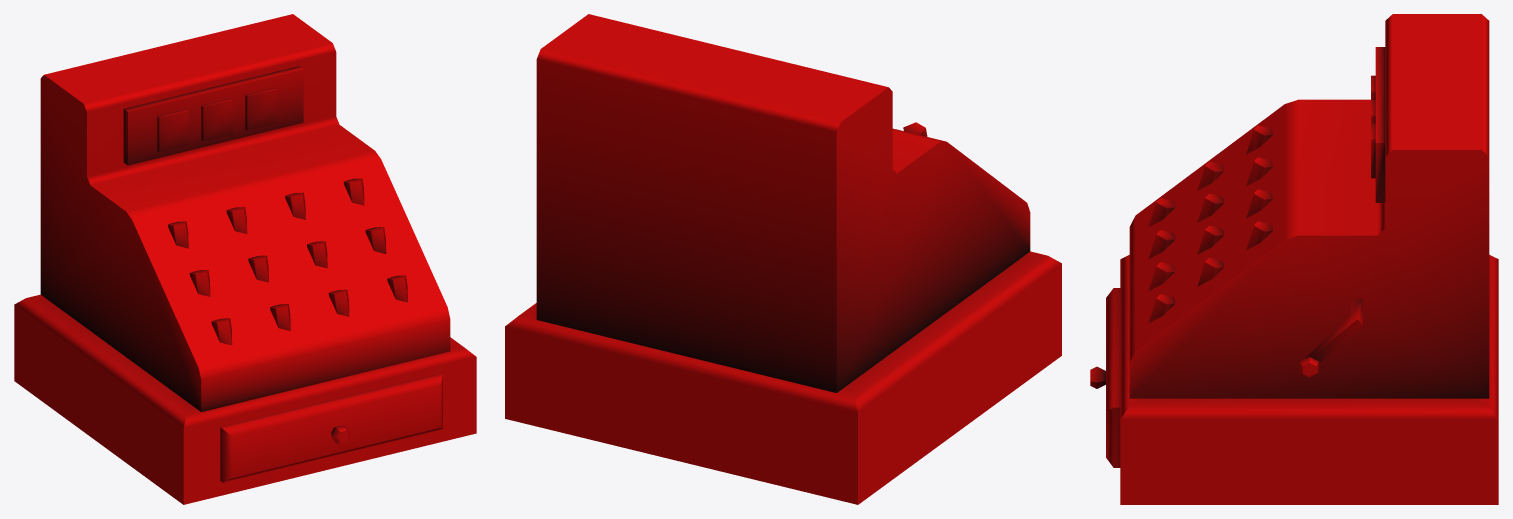
File: CI_Bakery_CashRegister.glb
3 renders of one model, left to right at view 1: azimuth 30°, elevation 25°; view 2: azimuth 150°, elevation 25°; view 3: azimuth 270°, elevation 25°, orthographic. The views are drawn at different scales.
Visible parts, largest first — view 1: CI_Bakery_CashRegister; view 2: CI_Bakery_CashRegister; view 3: CI_Bakery_CashRegister.
Boxes of the visible parts, x1,y1,x2,y2 form: CI_Bakery_CashRegister: (14, 14, 476, 504); CI_Bakery_CashRegister: (505, 14, 1061, 504); CI_Bakery_CashRegister: (1090, 14, 1498, 504).
Size of the model in its own units: 0.4268 by 0.4 by 0.4318.
